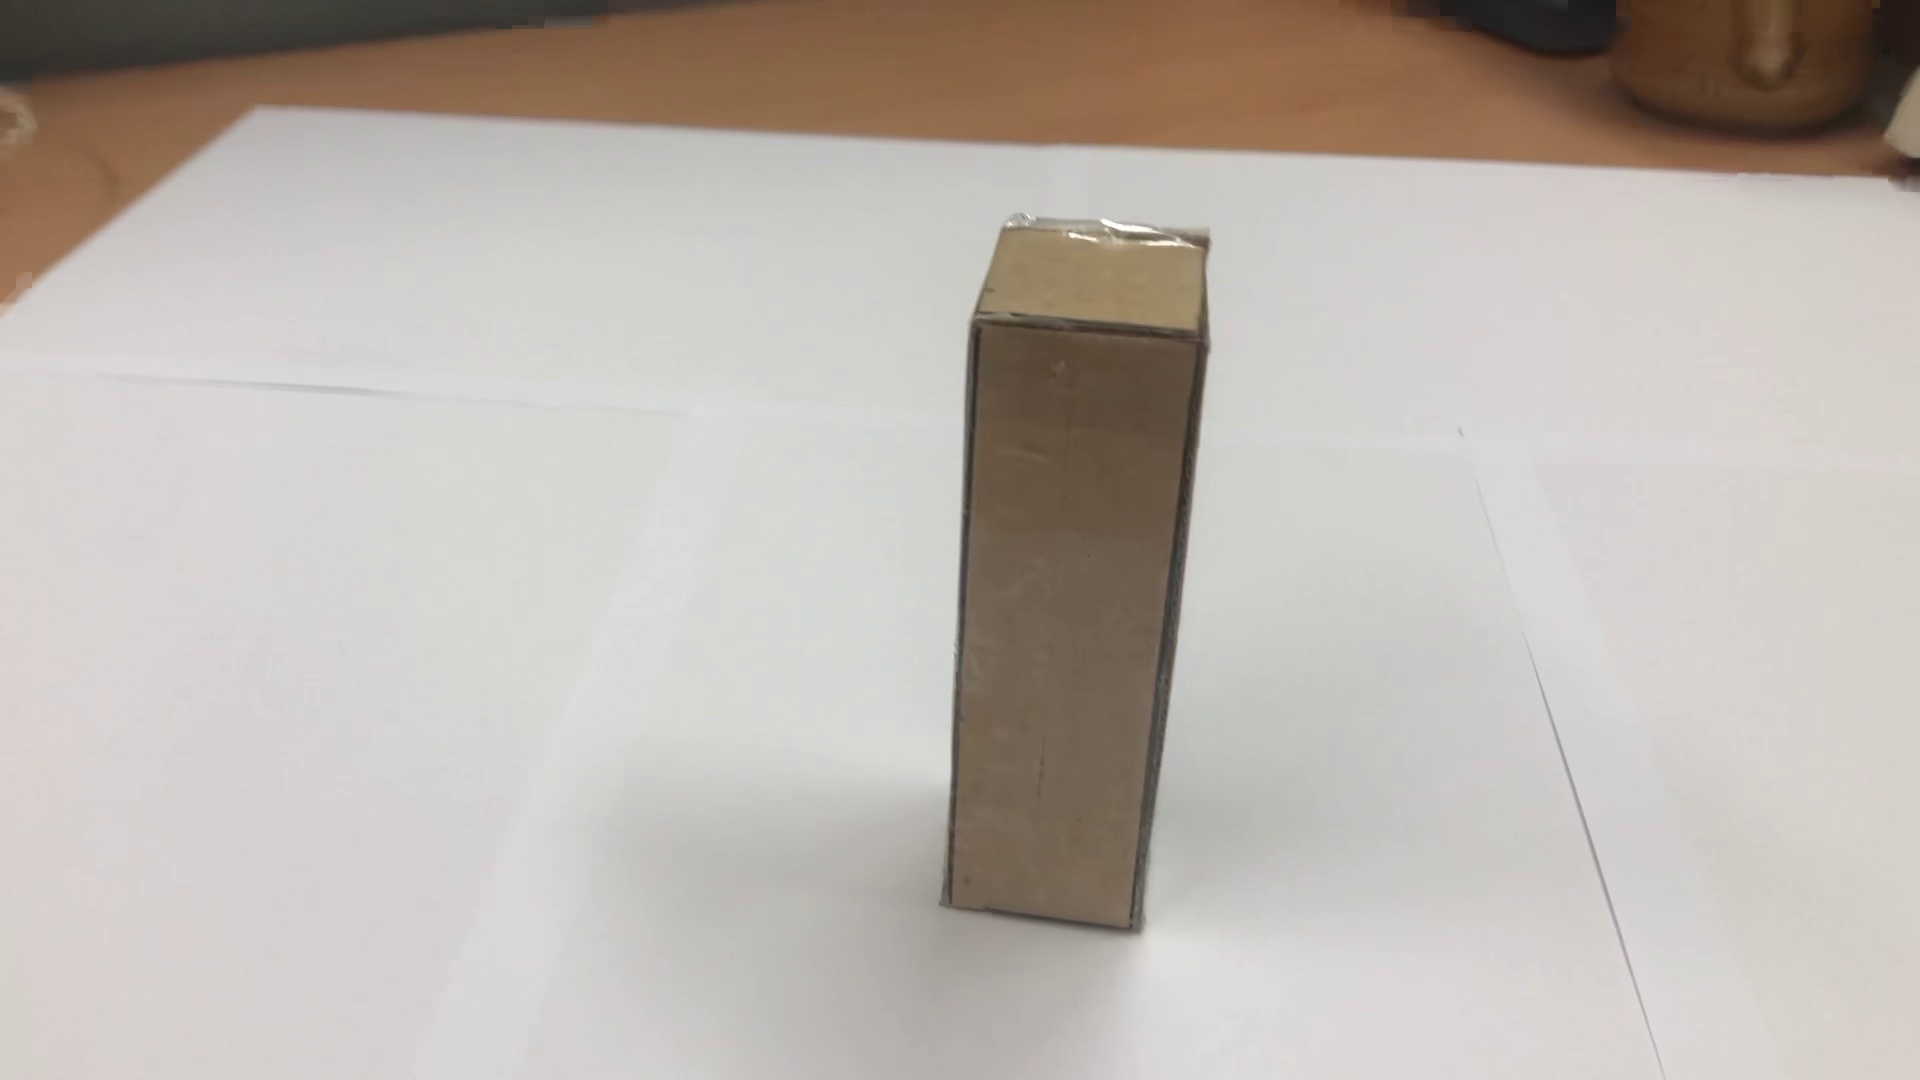box: (909, 198, 1238, 960)
